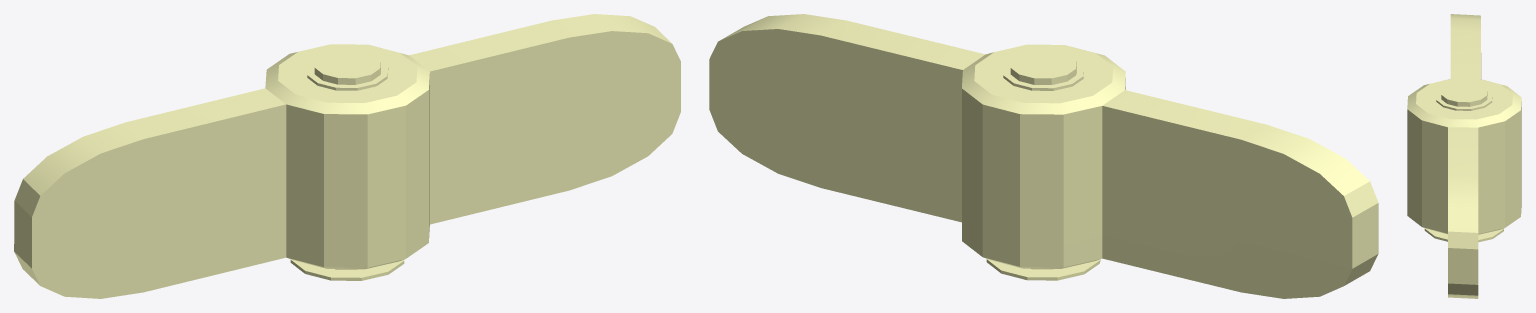
File: propelor.fbx
3 views of the same model, side by side, from view 1: azimuth 30°, elevation 25°; view 2: azimuth 150°, elevation 25°; view 3: azimuth 270°, elevation 25° (orthographic). The views are drawn at different scales.
Visible parts, largest first — view 1: propelor; view 2: propelor; view 3: propelor.
Boxes of the visible parts, bbox=[...] form: propelor: bbox=[14, 14, 680, 298]; propelor: bbox=[709, 14, 1378, 298]; propelor: bbox=[1407, 14, 1521, 298].
Size of the model in its own units: 110 by 31.03 by 24.
